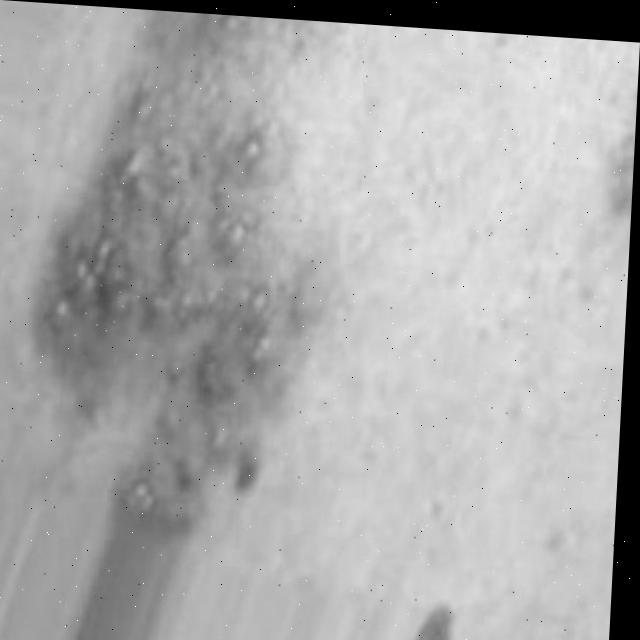Shingles: (43, 5, 329, 540)
